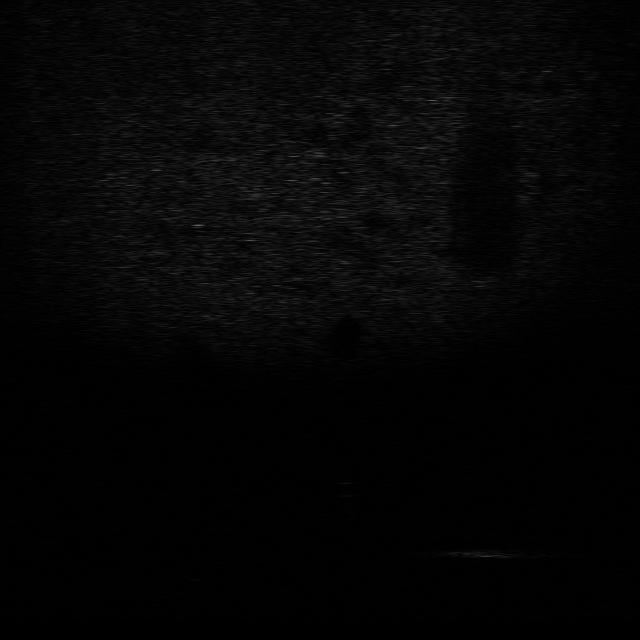ball: (329, 477, 369, 500)
metal bucket: (440, 538, 536, 563)
tyre: (170, 555, 231, 587)
